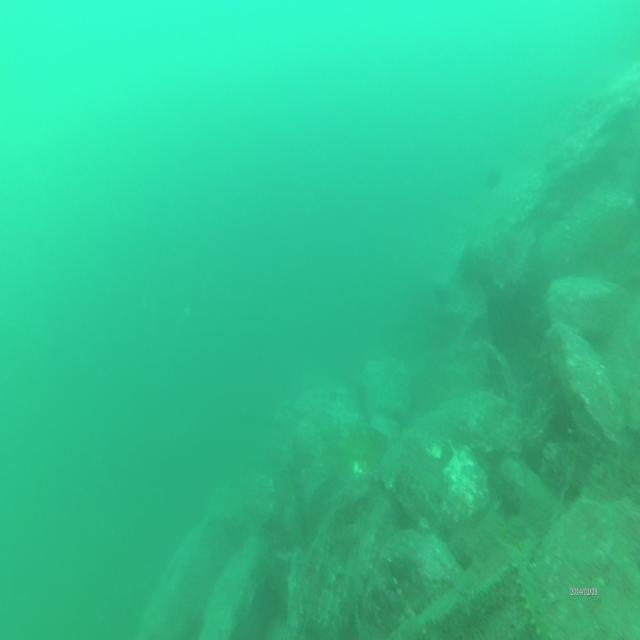echinus: (486, 166, 502, 194)
holothurian: (506, 547, 555, 640)
